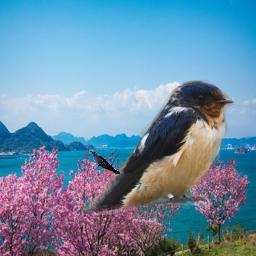Cuckoo: (89, 150, 120, 174)
Swallow: (81, 79, 236, 216)
